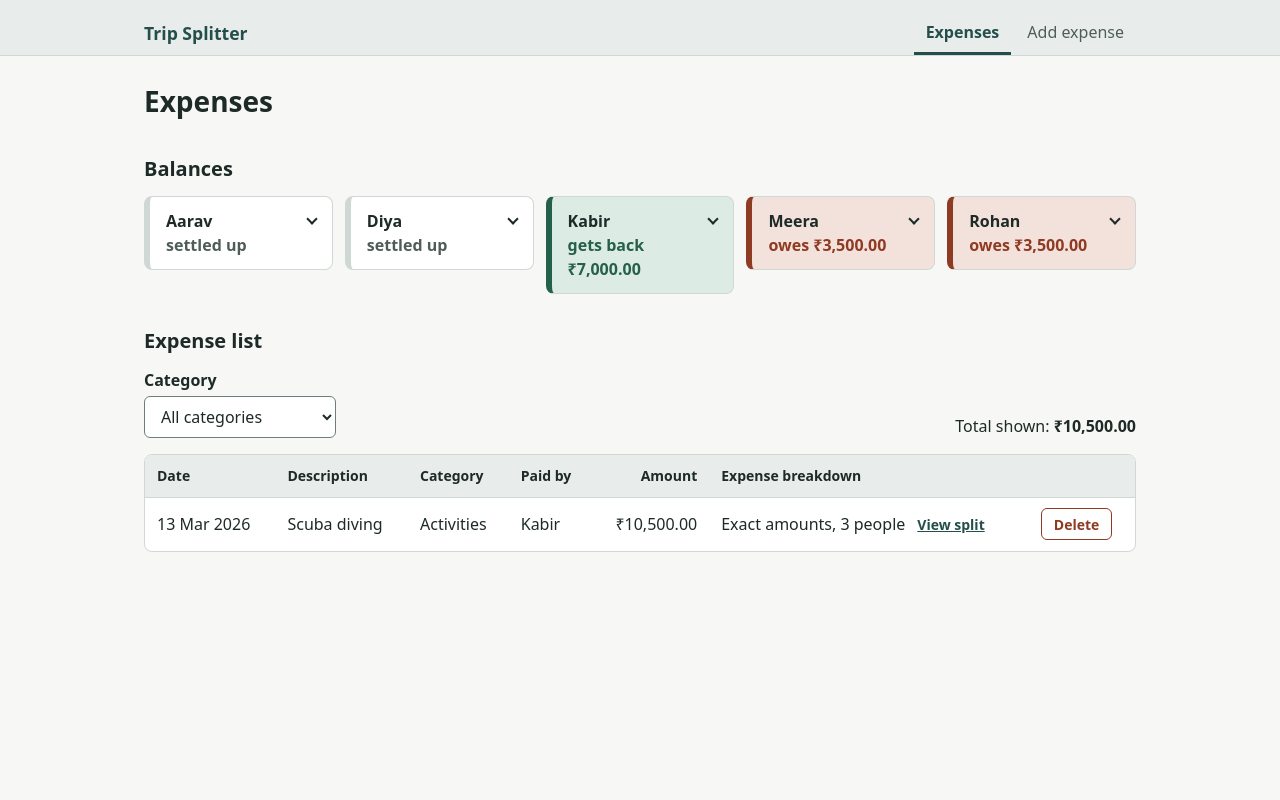
Balance cards › says "No payments needed" for someone who is settled up
Click the button "Aarav settled up" at coordinates (241, 233), box [150,197,332,269]
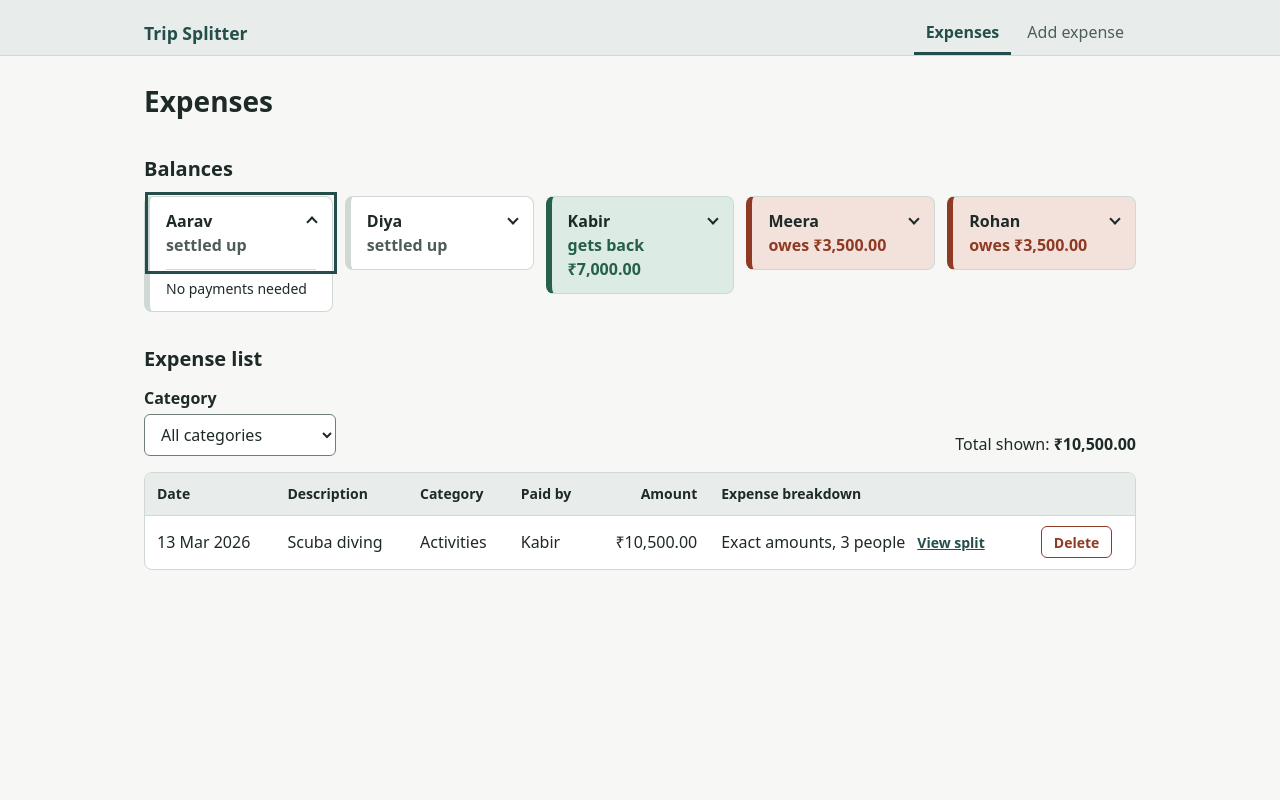
Check: the text "No payments needed" is shown, box [166,278,316,299]
